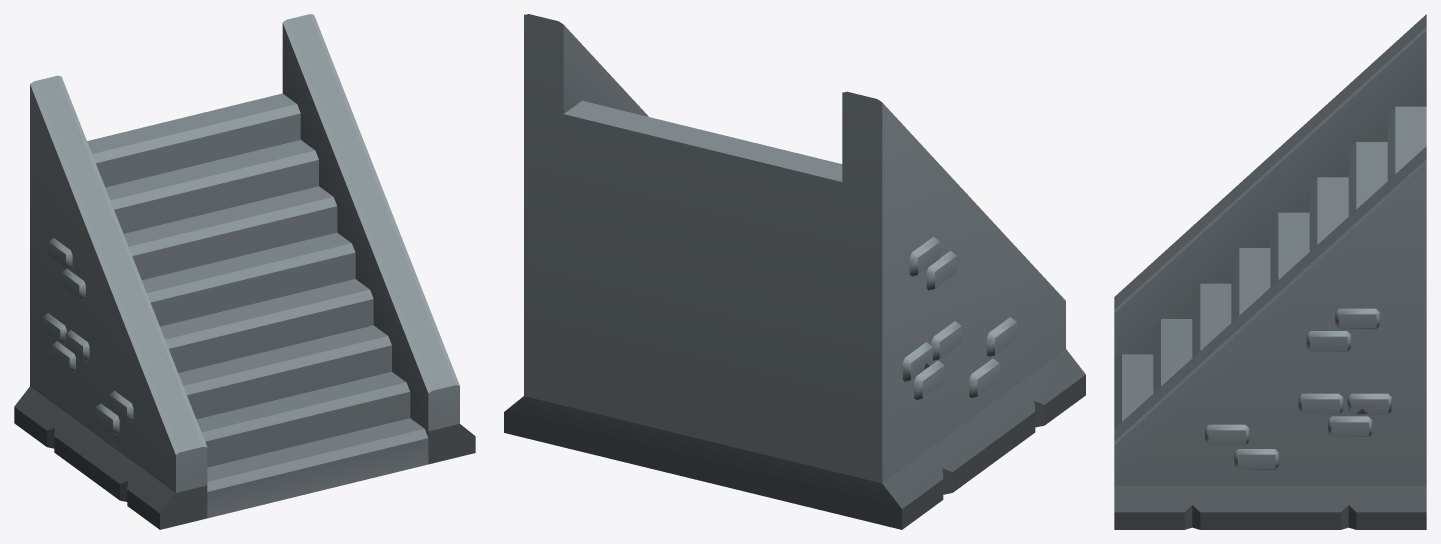
Rendered from stairs.gltf.
3 renders of one model, left to right at view 1: azimuth 30°, elevation 25°; view 2: azimuth 150°, elevation 25°; view 3: azimuth 270°, elevation 25°, orthographic. The views are drawn at different scales.
Parts seen in each view (by area): view 1: stairs; view 2: stairs; view 3: stairs.
Boxes of the visible parts, x1,y1,x2,y2 form: stairs: (14,14,475,529); stairs: (504,14,1085,529); stairs: (1114,14,1426,529).
Bounding box in the file's own units: 5 × 5.1 × 4.
1 material, 1 textured.
